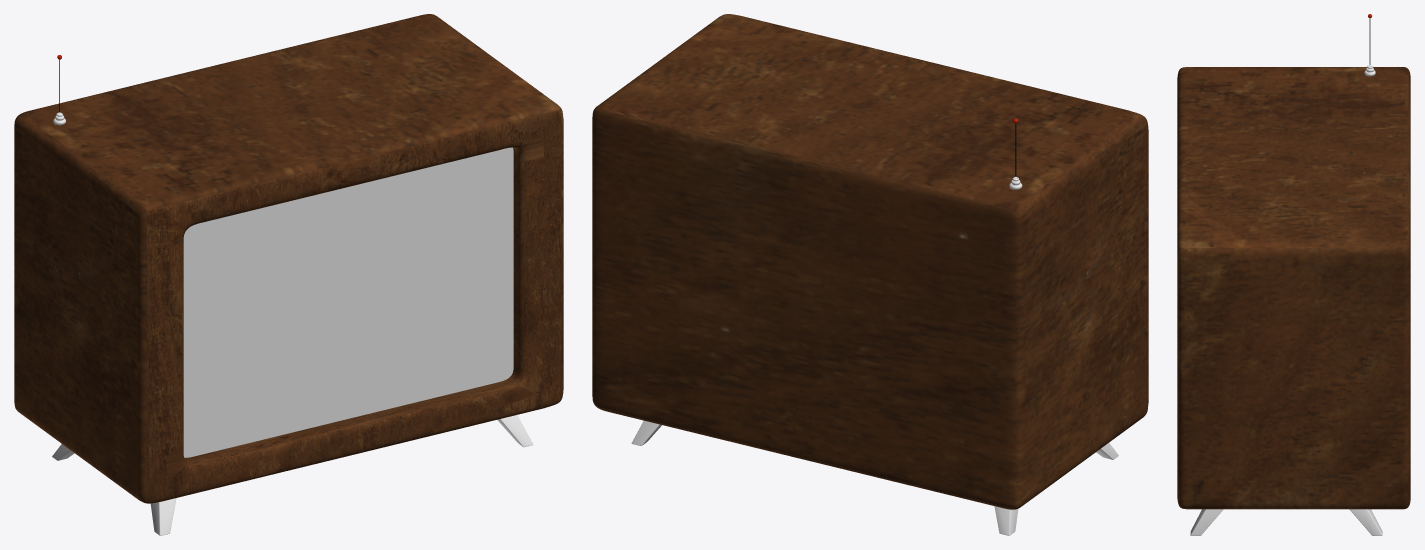
3 renders of one model, left to right at view 1: azimuth 30°, elevation 25°; view 2: azimuth 150°, elevation 25°; view 3: azimuth 270°, elevation 25°, orthographic. The views are drawn at different scales.
Visible parts, largest first — view 1: Screen, Tv, Legs; view 2: Screen, Legs; view 3: Screen, Legs.
Part boxes in pixels (left/top/right/bottom): Screen: left=14, top=14, right=563, bottom=503; Tv: left=183, top=147, right=513, bottom=457; Legs: left=52, top=415, right=533, bottom=535; Screen: left=592, top=14, right=1148, bottom=509; Legs: left=631, top=420, right=1118, bottom=535; Screen: left=1177, top=67, right=1410, bottom=509; Legs: left=1190, top=509, right=1382, bottom=535.
Size of the model in its own units: 364 by 334 by 196.
